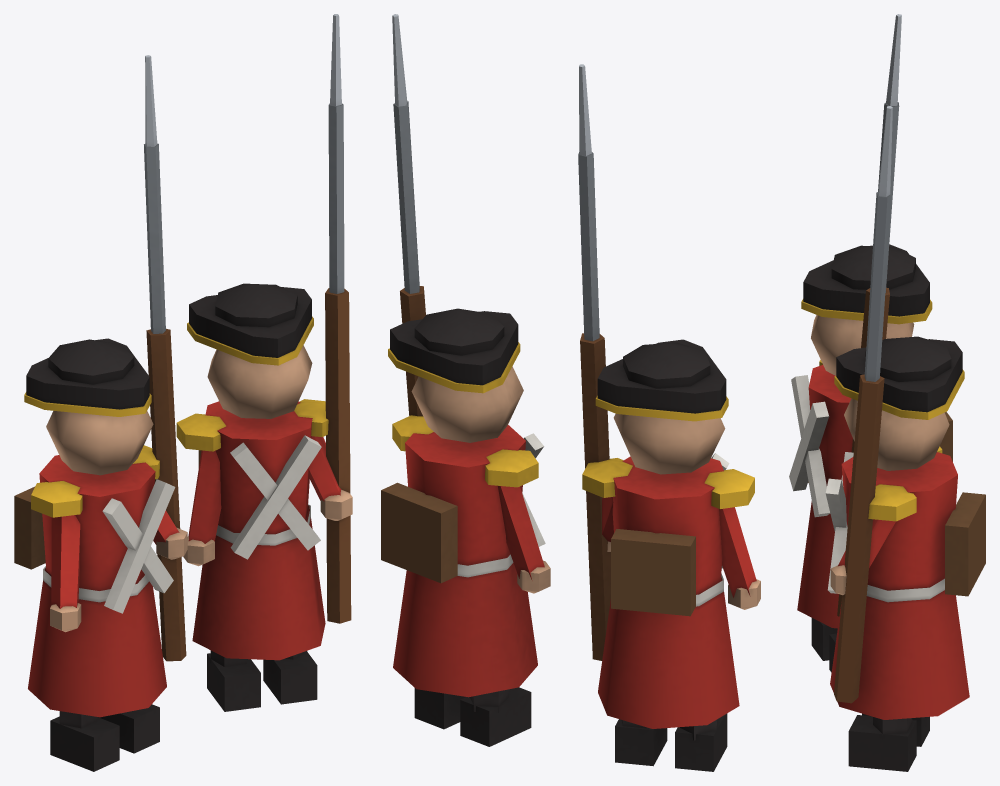
Rendered from sentry_dl4_red.glb.
3 renders of one model, left to right at view 1: azimuth 30°, elevation 25°; view 2: azimuth 150°, elevation 25°; view 3: azimuth 270°, elevation 25°, orthographic. The views are drawn at different scales.
Parts seen in each view (by area): view 1: sentry_dl4_red; view 2: sentry_dl4_red; view 3: sentry_dl4_red.
Boxes of the visible parts, x1,y1,x2,y2 form: sentry_dl4_red: (14, 14, 352, 771); sentry_dl4_red: (381, 14, 760, 771); sentry_dl4_red: (789, 14, 985, 771).
Size of the model in its own units: 0.3372 by 0.6557 by 0.1724.
Materials: 1 (1 with a texture image).
